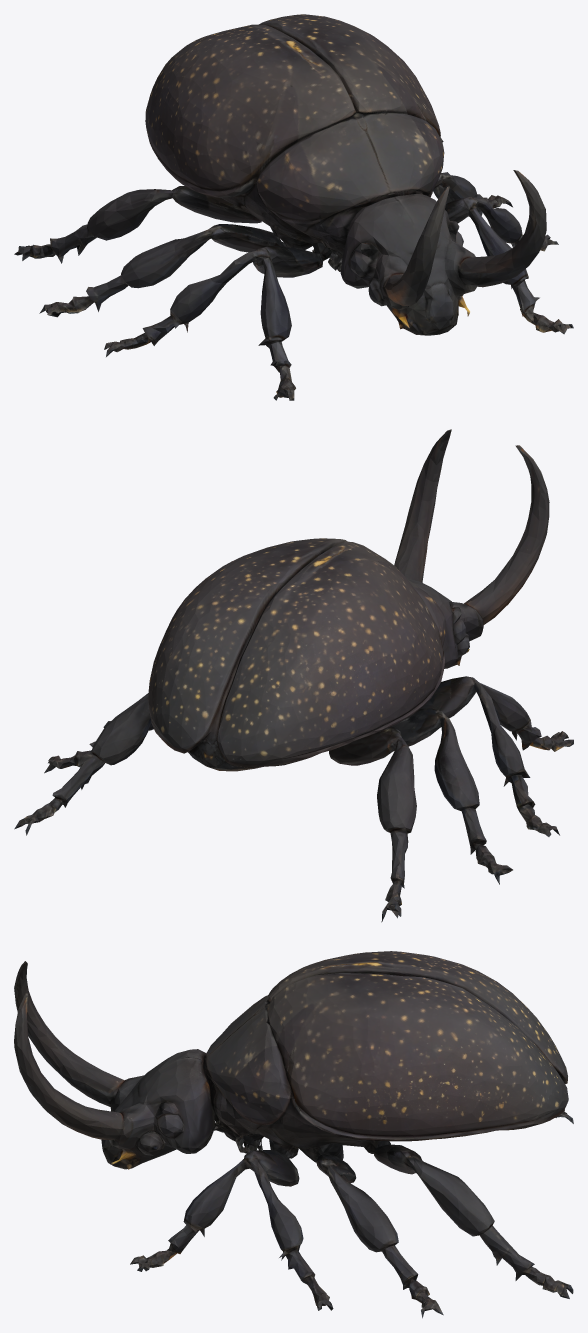
The model's file is Rhino_beetle__0421021538_texture.fbx.
The picture shows the model from 3 angles, top to bottom: view 1: azimuth 30°, elevation 25°; view 2: azimuth 150°, elevation 25°; view 3: azimuth 270°, elevation 25°; orthographic projection. The views are drawn at different scales.
Parts seen in each view (by area): view 1: temp; view 2: temp; view 3: temp.
Part boxes in pixels (x1,y1,x2,y2): temp: [14, 14, 573, 400]; temp: [14, 429, 573, 922]; temp: [14, 951, 573, 1318].
Bounding box in the file's own units: 187 × 94.18 × 199.
Materials: 1 (1 with a texture image).
